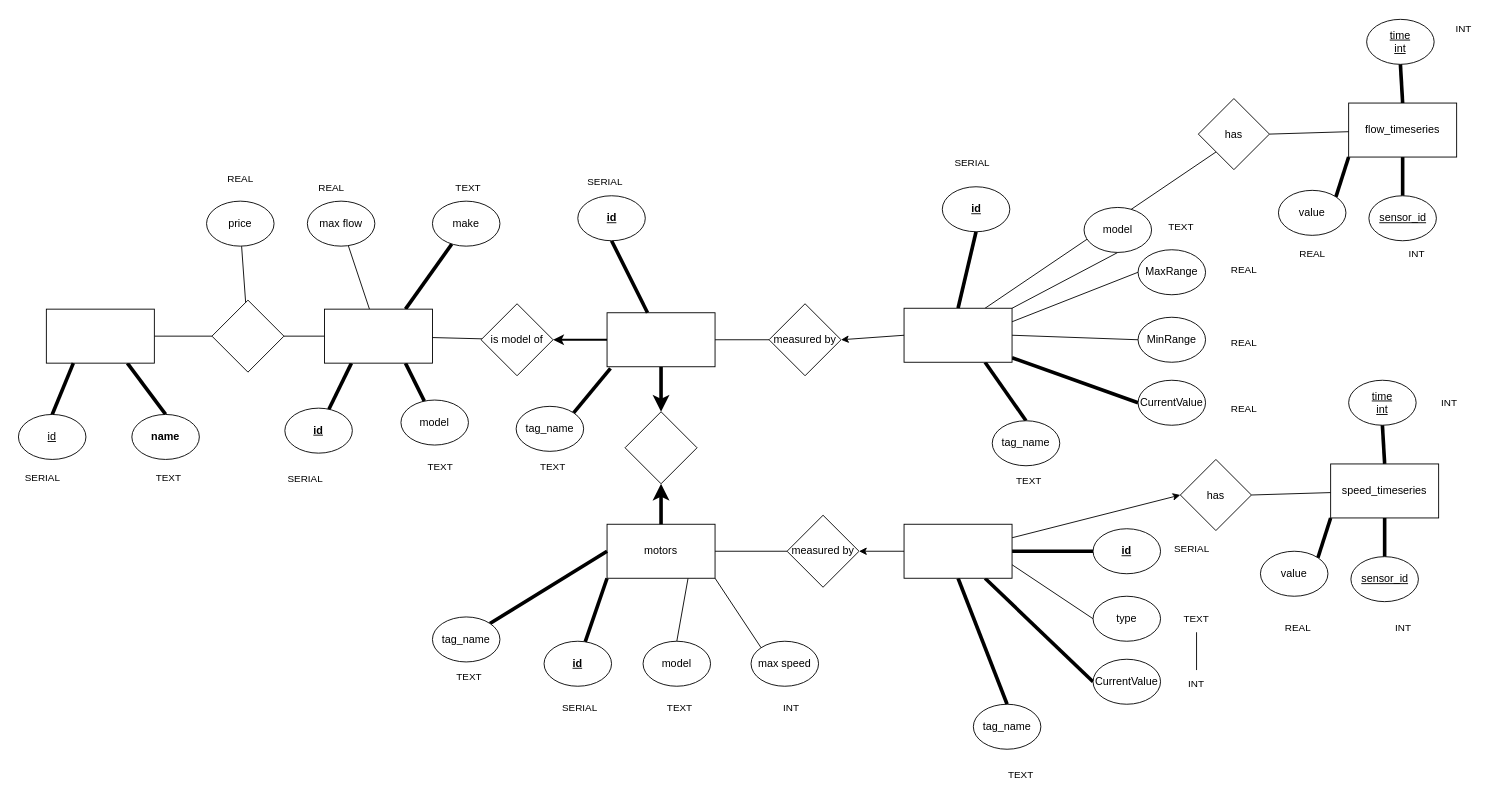
Image size: 1506x803. Some labels were removed from this diagram. Each missing label, with the box of its shape:
driven by: (624, 411, 697, 484)
flow_sensors: (903, 307, 1012, 362)
pump_models: (324, 308, 432, 363)
pumps: (606, 312, 715, 367)
sells: (211, 299, 284, 372)
speed_sensors: (903, 523, 1012, 578)
vendors: (45, 308, 154, 363)
